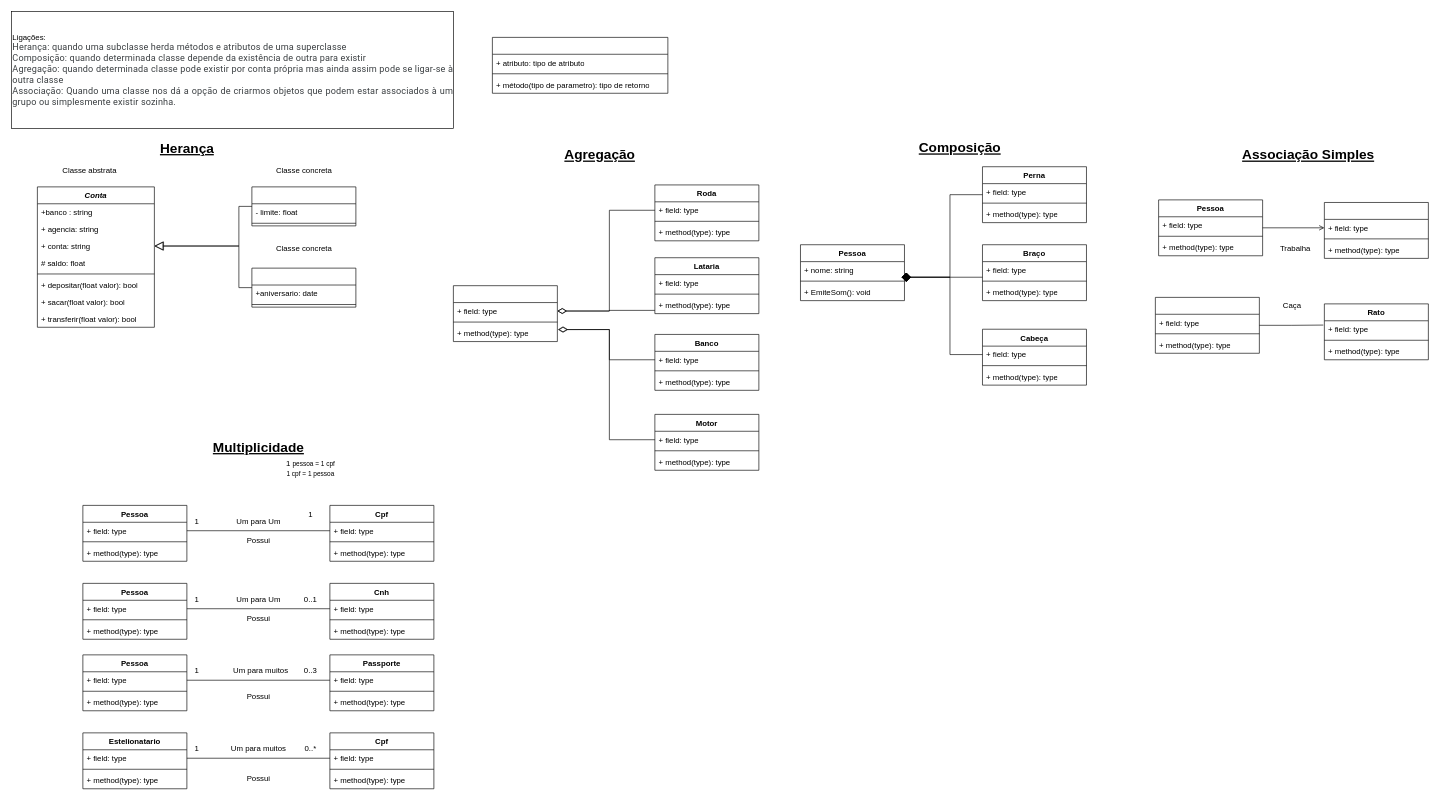
This 1440x802 diagram has some shape labels left out. Here are the shapes that lost their labels. From the top down, the box of each, then its label:
(492, 37, 668, 93): Classe
(251, 186, 356, 226): ContaCorrente
(1324, 202, 1428, 258): Empresa
(251, 267, 356, 307): ContaPoupanca
(453, 285, 557, 342): Carro
(1155, 297, 1259, 353): Gato
